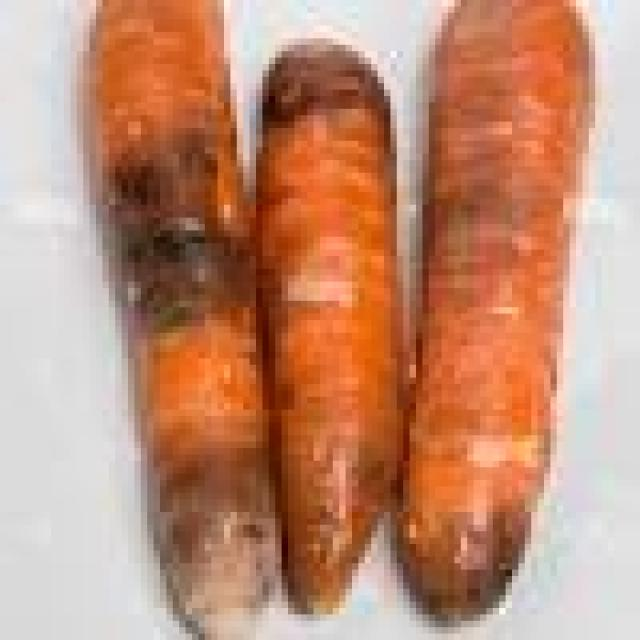Stale_Carrot: (99, 0, 258, 620), (238, 11, 394, 622), (426, 1, 562, 632)
